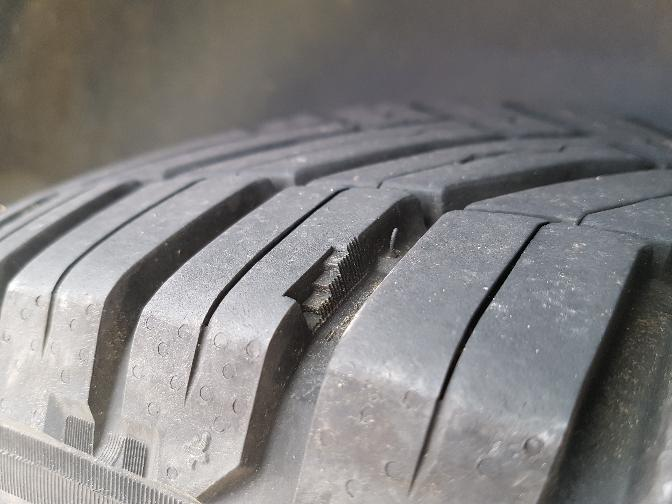temoin:90: (275, 231, 376, 342)
